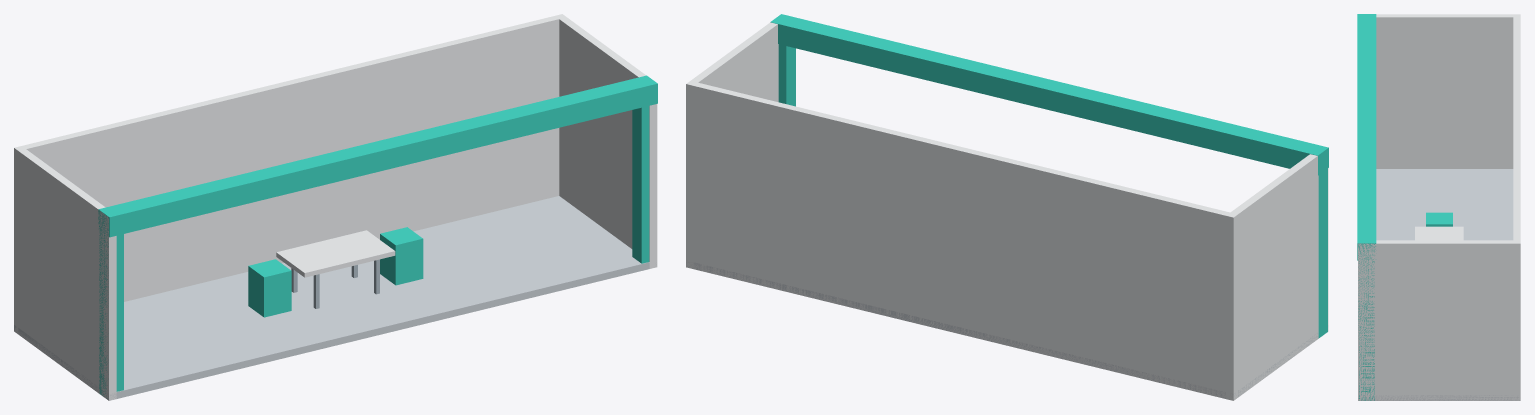
The picture shows the model from 3 angles, left to right: view 1: azimuth 30°, elevation 25°; view 2: azimuth 150°, elevation 25°; view 3: azimuth 270°, elevation 25°; orthographic projection. The views are drawn at different scales.
Parts seen in each view (by area): view 1: Exhibition Booth Concept; view 2: Exhibition Booth Concept; view 3: Exhibition Booth Concept.
Boxes of the visible parts, x1,y1,x2,y2 form: Exhibition Booth Concept: [14, 14, 657, 400]; Exhibition Booth Concept: [686, 14, 1328, 400]; Exhibition Booth Concept: [1357, 14, 1520, 400].
Bounding box in the file's own units: 10 × 3.2 × 3.01.
